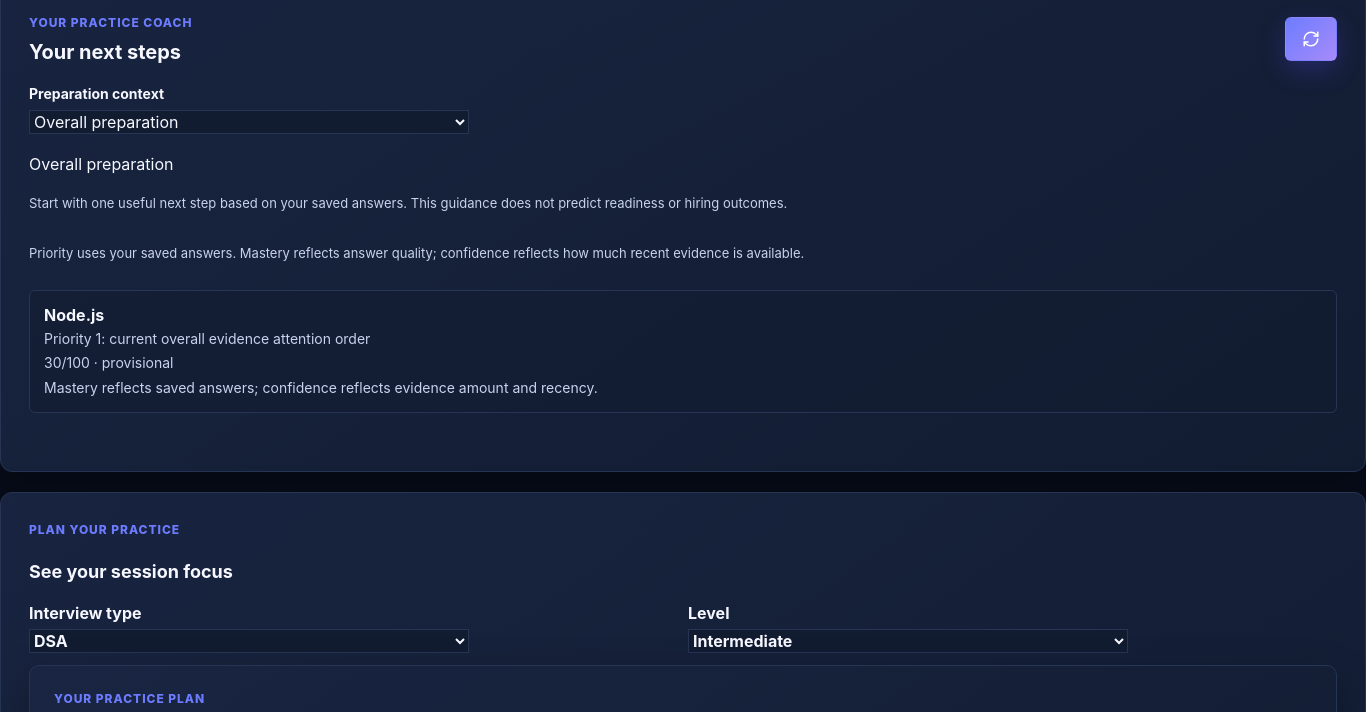
Test: CoachWorkspace › reports pending evidence and preserves prior content on a failed panel refresh
The image size is (1366, 712).
Click the button named "Refresh Coach".
click(1311, 39)  # box [1285, 17, 1337, 61]
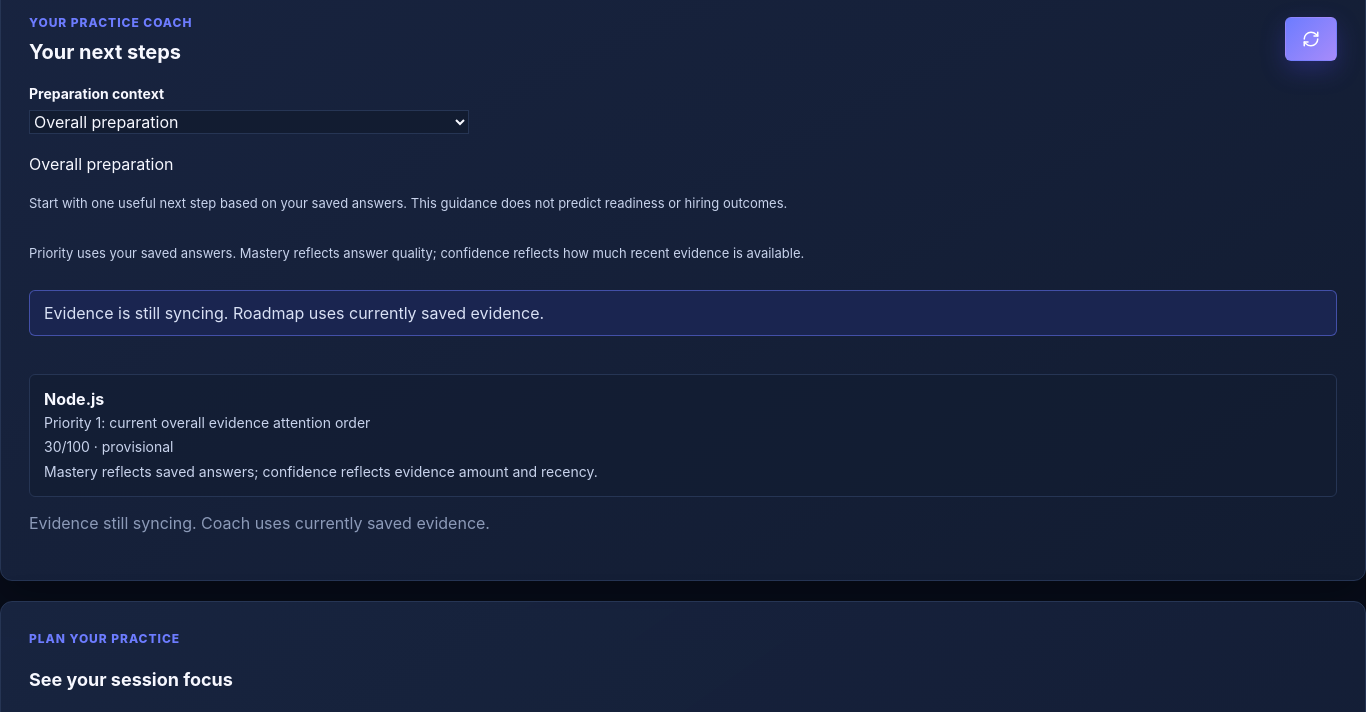
Expected: the text "Evidence still syncing. Coach uses currently saved evidence." is shown, [29, 513, 490, 533]
Click the button named "Refresh Coach".
click(1311, 39)  # box [1285, 17, 1337, 61]
(page scrolled)
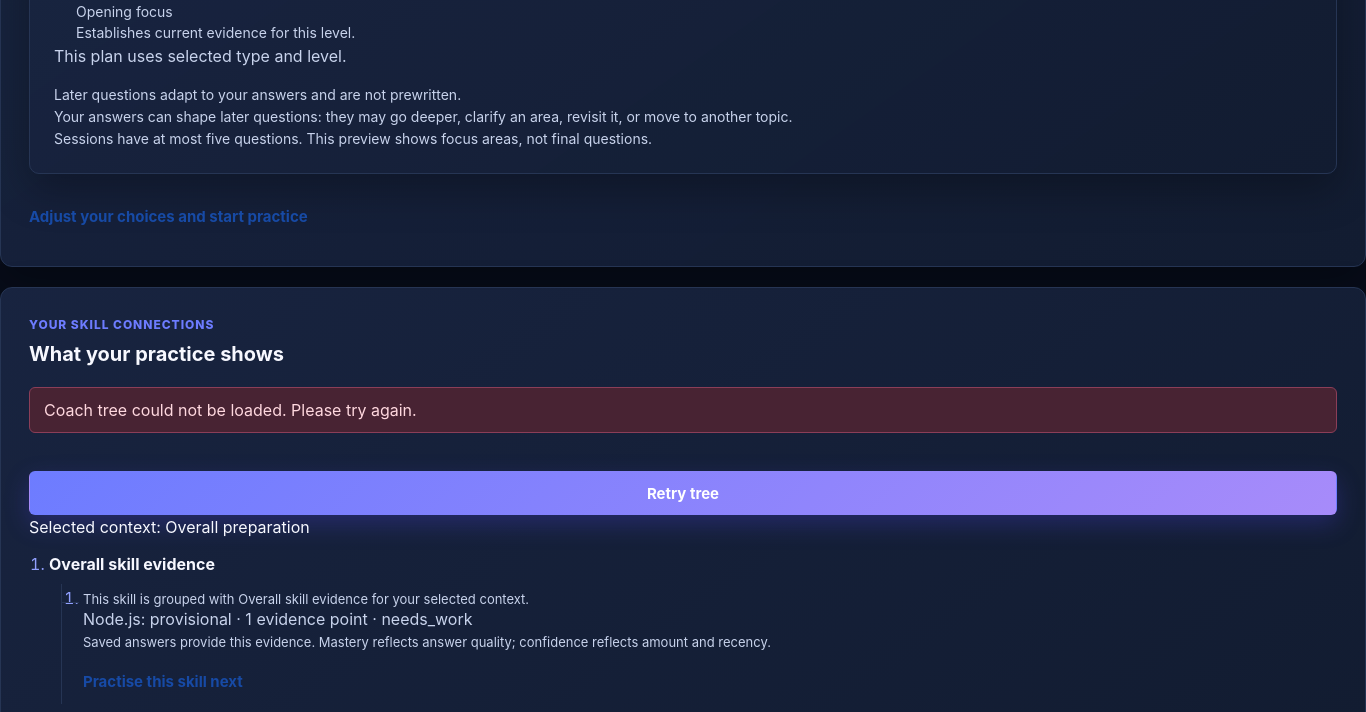
Expected: the text "Overall skill evidence" is shown, [49, 554, 215, 574]
Expected: the button "Retry tree" is shown, [29, 471, 1337, 515]
